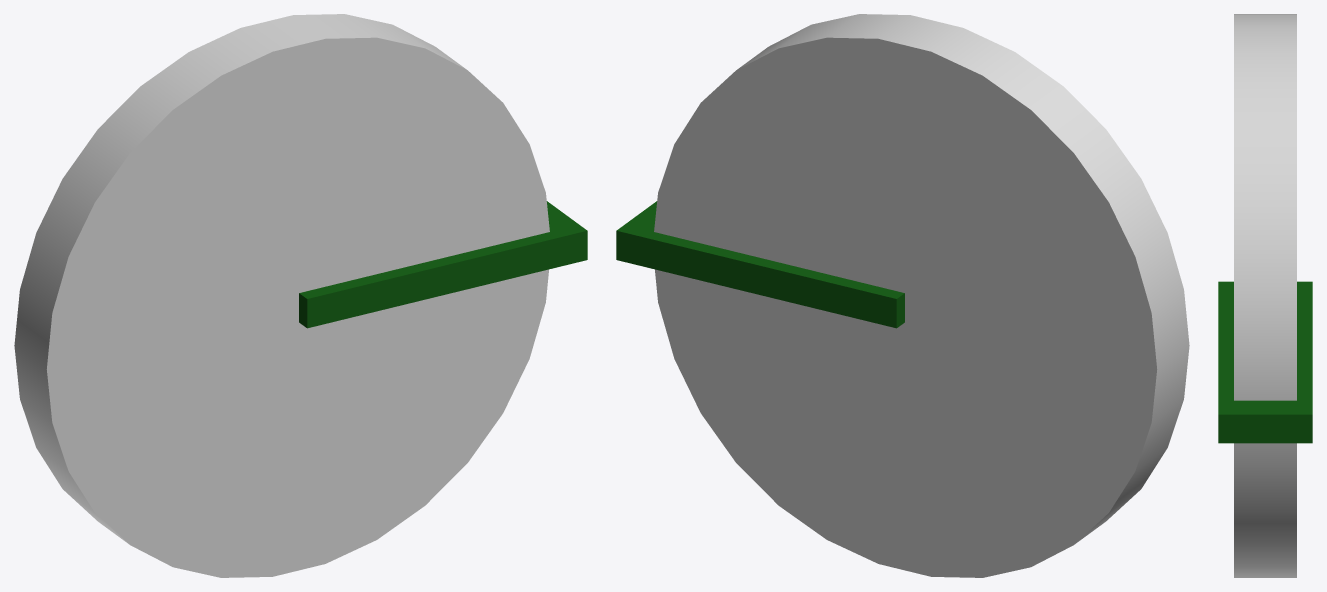
Rendered from SlowSelect.FBX.
The picture shows the model from 3 angles, left to right: view 1: azimuth 30°, elevation 25°; view 2: azimuth 150°, elevation 25°; view 3: azimuth 270°, elevation 25°; orthographic projection. The views are drawn at different scales.
Visible parts, largest first — view 1: Disc, Hand; view 2: Disc, Hand; view 3: Disc, Hand.
Part boxes in pixels (x1,y1,x2,y2): Disc: [14, 14, 549, 577]; Hand: [299, 201, 587, 328]; Disc: [654, 14, 1189, 577]; Hand: [616, 201, 904, 328]; Disc: [1234, 14, 1296, 577]; Hand: [1218, 281, 1312, 443].
Size of the model in its own units: 1.9 by 1.79 by 0.3.
